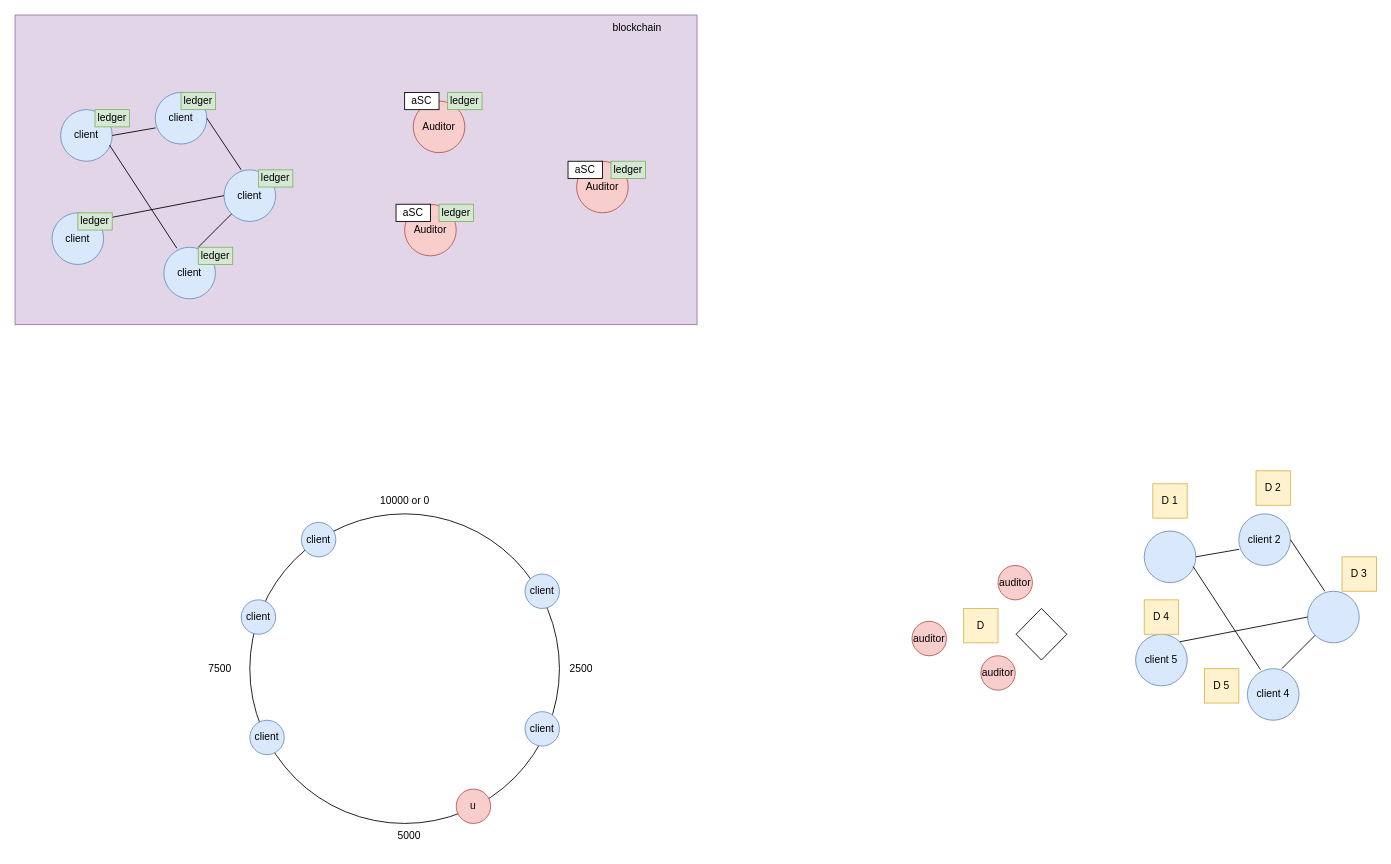
The diagram is 1391 pixels wide and 864 high, and some of its shapes have lost their labels. Here are the shapes that lost their labels. From the top down, the centre of each, then its label:
At (x=1169, y=556): "client 1".
At (x=1041, y=634): "global model".
At (x=1333, y=616): "client 3".
